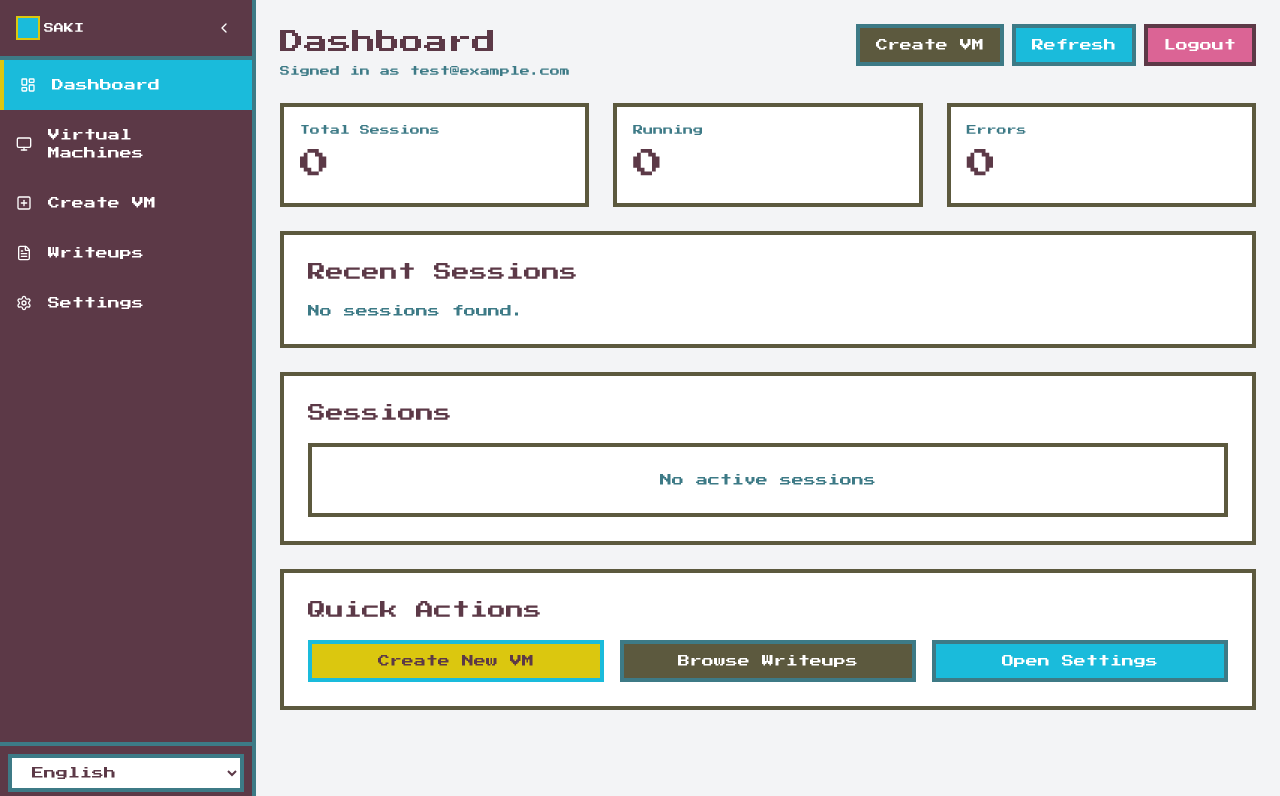
Test case: Navigation Flow Integration Test › should navigate between dashboard and create VM when authenticated
Expected: the heading "Dashboard" is shown, [280,30,496,54]
Click the link "Create VM" at (86, 203), box [16,195,156,211]
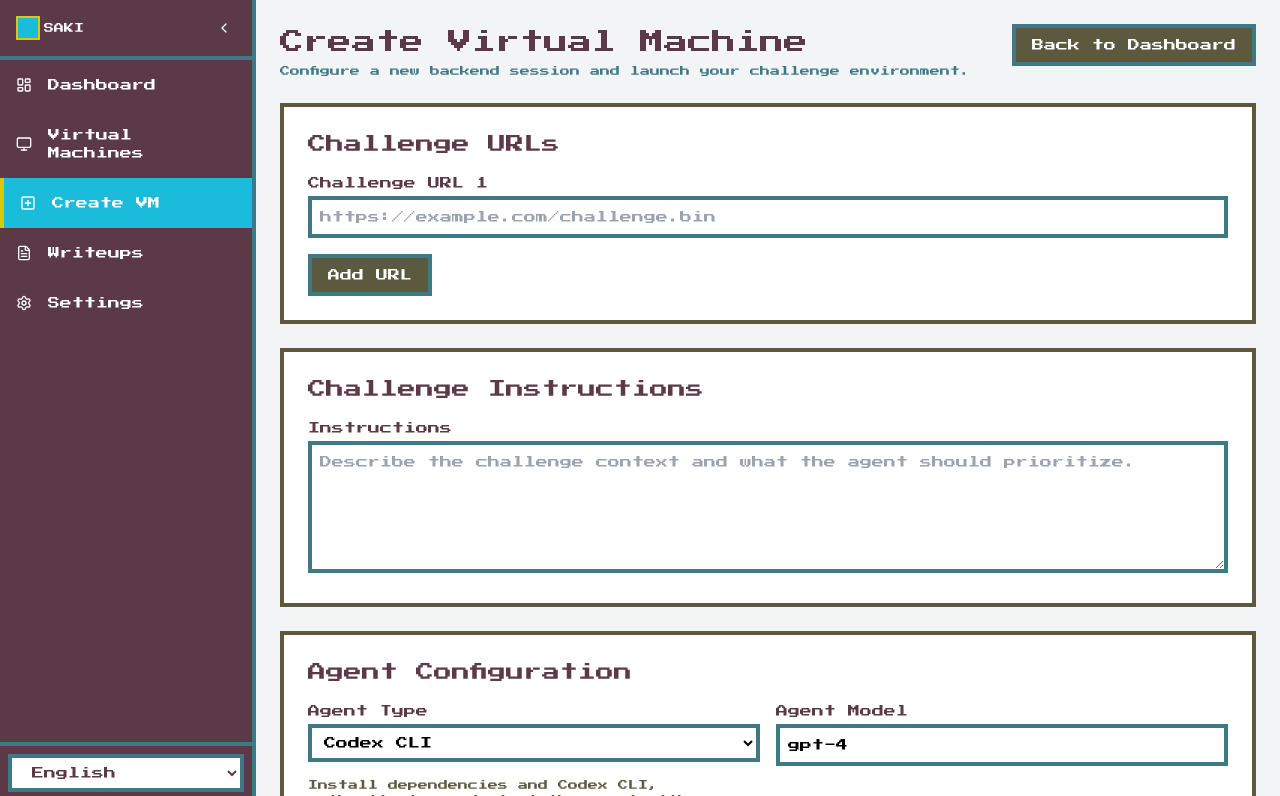
Now the heading "Create Virtual Machine" is shown, box [280,30,808,54]
Click the link "Dashboard" at (86, 85), box [16,77,156,93]
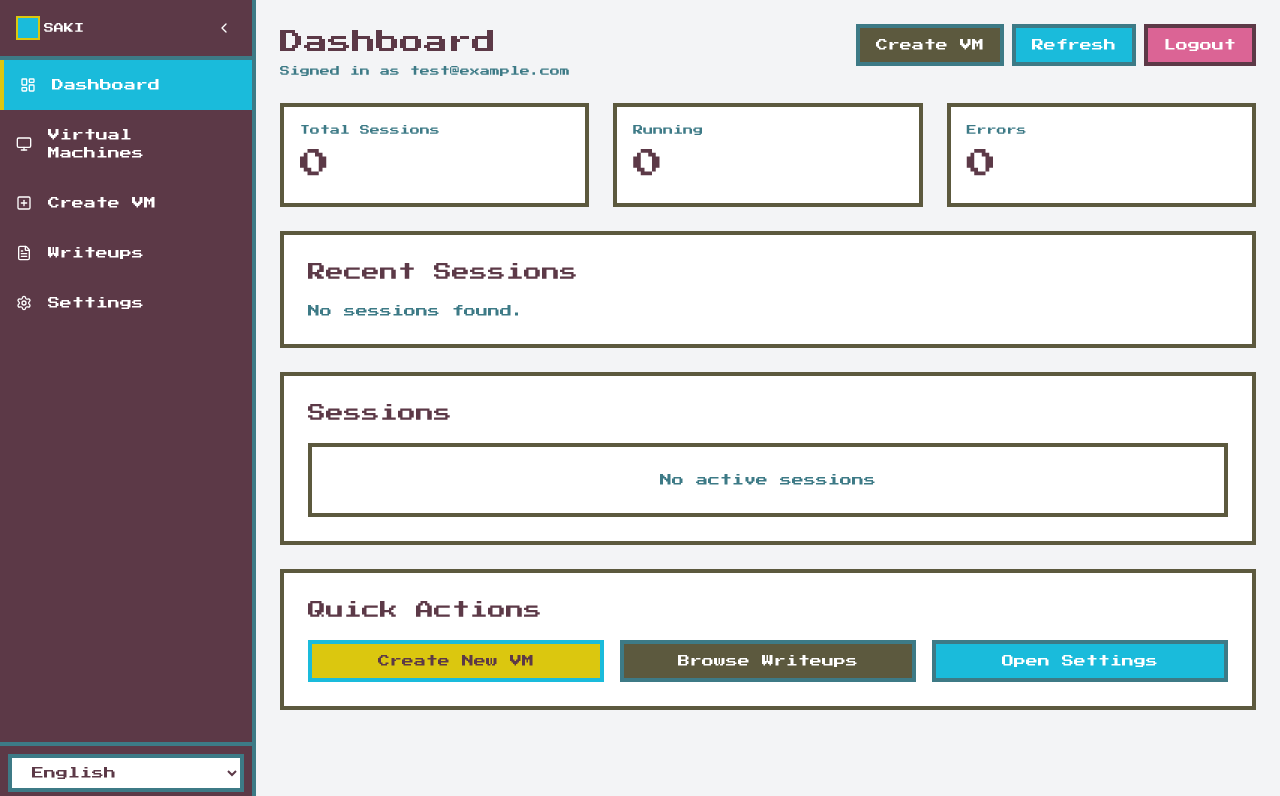
Now the heading "Dashboard" is shown, box [280,30,496,54]
